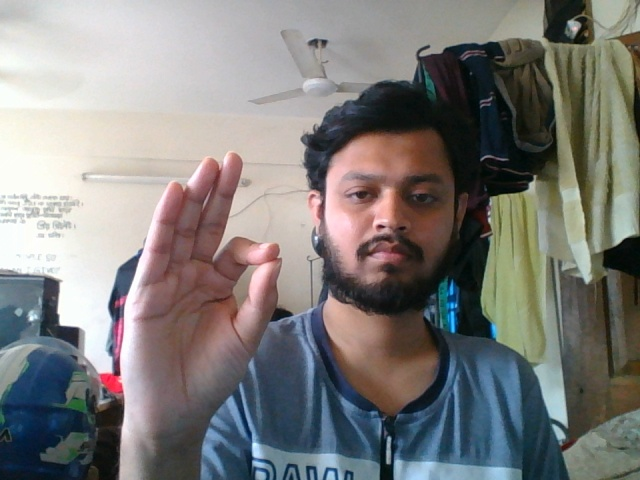ieo: (119, 145, 286, 455)
